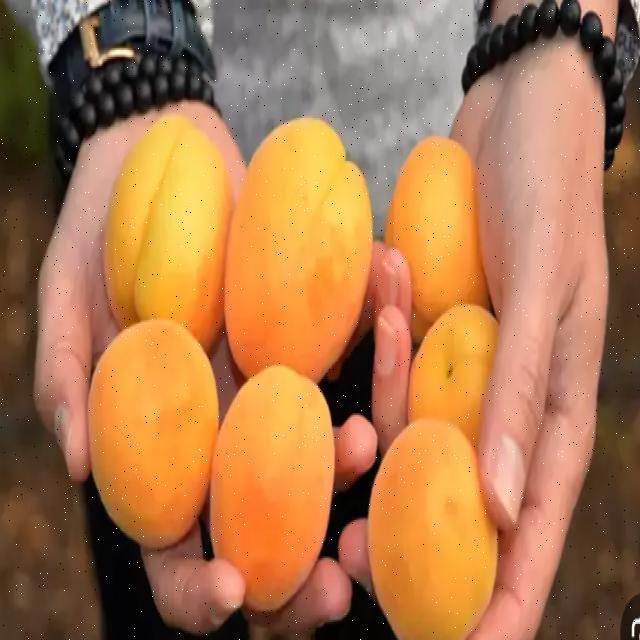kayisi: (228, 116, 372, 379), (210, 362, 342, 614), (368, 416, 516, 640), (104, 92, 223, 342), (90, 304, 217, 538), (382, 134, 486, 338), (406, 307, 506, 449)
